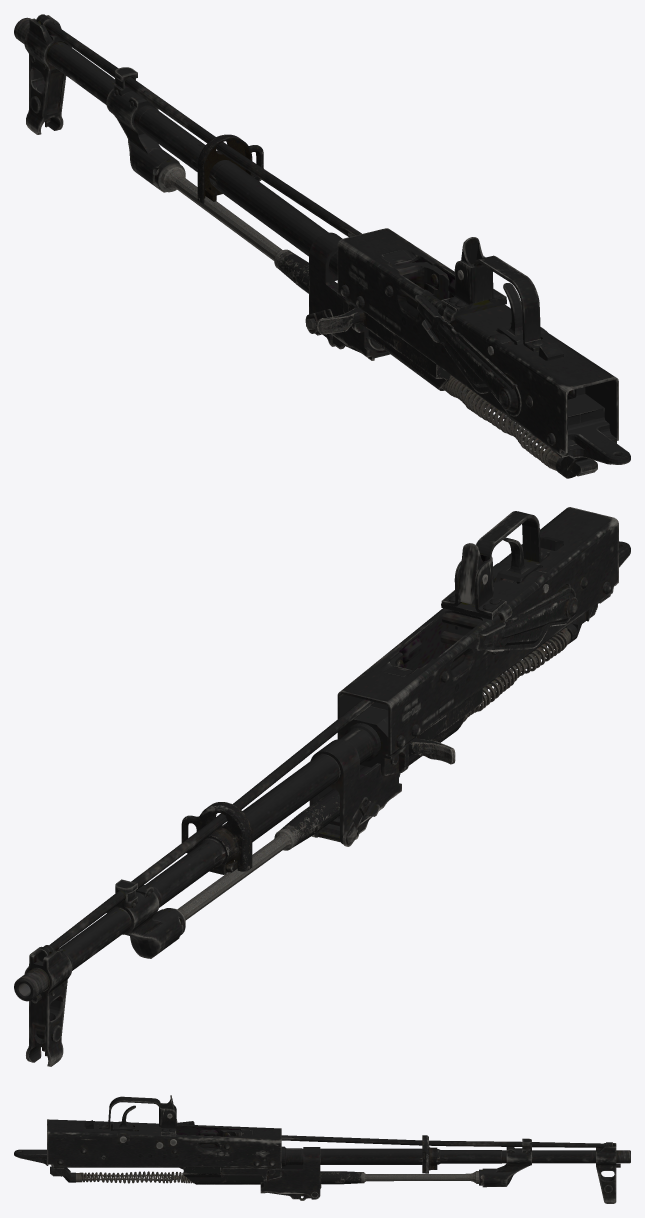
3 views of the same model, one above another, from view 1: azimuth 30°, elevation 25°; view 2: azimuth 150°, elevation 25°; view 3: azimuth 270°, elevation 25° (orthographic). The views are drawn at different scales.
Visible parts, largest first — view 1: TW_59e6687d86f77411d949b251_PZ_Import; view 2: TW_59e6687d86f77411d949b251_PZ_Import; view 3: TW_59e6687d86f77411d949b251_PZ_Import.
Part boxes in pixels (box(x1,y1,x2,y2)): TW_59e6687d86f77411d949b251_PZ_Import: box(14, 14, 630, 478); TW_59e6687d86f77411d949b251_PZ_Import: box(14, 507, 630, 1066); TW_59e6687d86f77411d949b251_PZ_Import: box(14, 1095, 630, 1203).
Bounding box in the file's own units: 0.0409 × 0.3894 × 0.0736.
Materials: 1 (1 with a texture image).
